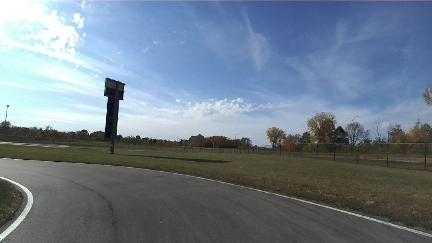Grass: (0, 145, 431, 230), (0, 180, 22, 226)
Lane: (0, 159, 431, 242)
